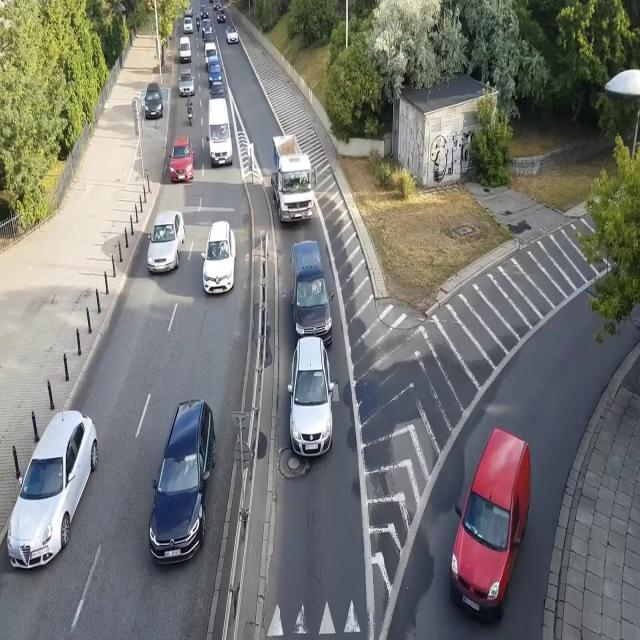car: (6, 409, 100, 571), (147, 398, 217, 566), (290, 336, 334, 462), (145, 207, 187, 275), (203, 222, 237, 294), (168, 136, 195, 182), (144, 82, 164, 118), (178, 67, 195, 99), (210, 82, 227, 100), (226, 24, 238, 44), (201, 18, 214, 36), (216, 8, 226, 24), (184, 17, 193, 33), (184, 3, 194, 17), (200, 5, 210, 18), (212, 0, 222, 11)
motorcycle: (184, 94, 194, 127), (196, 13, 200, 34)
truck: (271, 132, 318, 225)
van: (450, 424, 533, 627), (289, 240, 335, 352), (205, 100, 233, 167), (202, 43, 220, 70), (208, 56, 224, 86), (178, 34, 192, 64)
